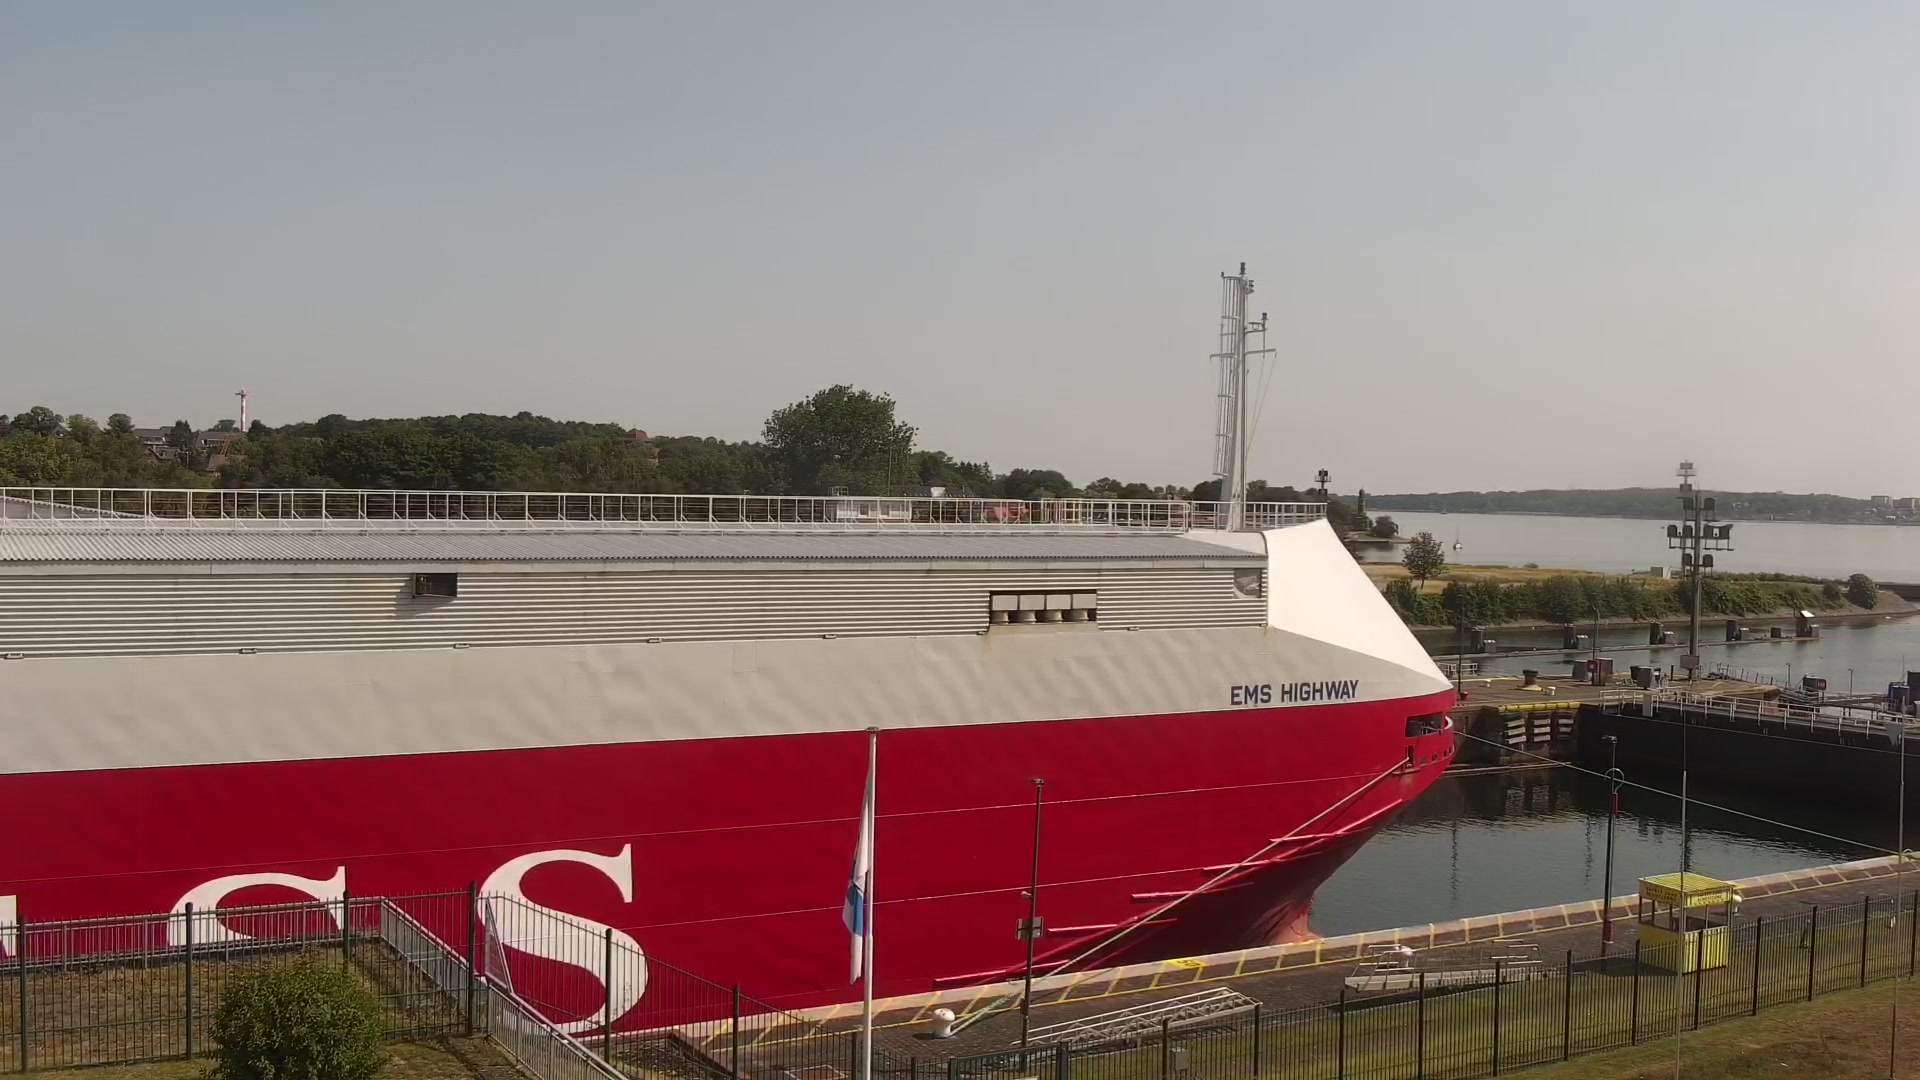sea: (1, 477, 1456, 1040), (1453, 518, 1462, 549)
